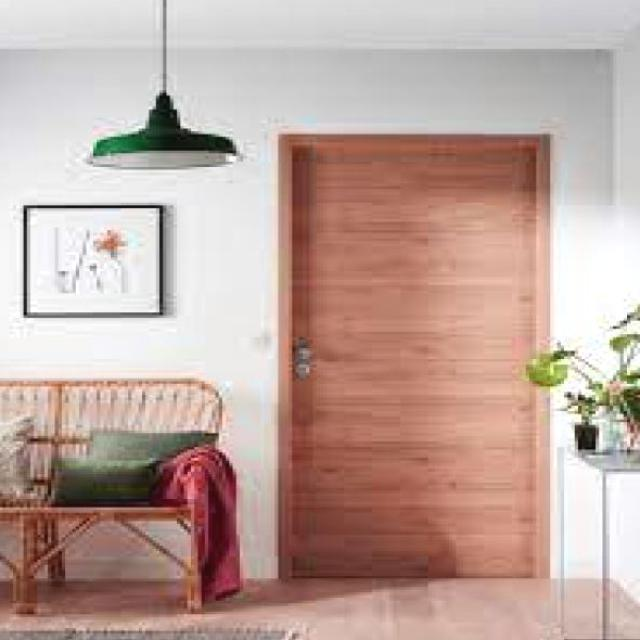door: (276, 131, 551, 580)
